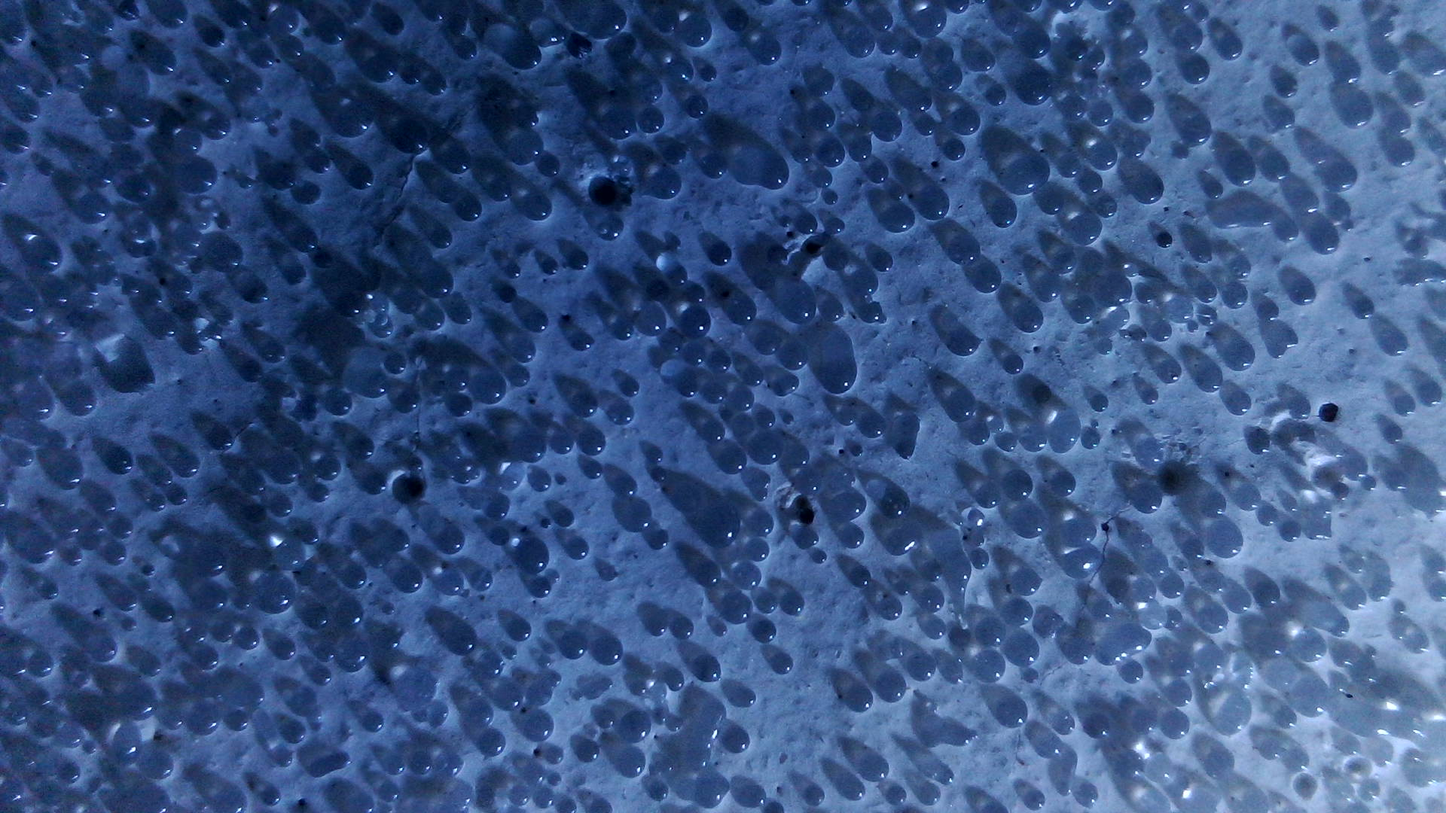GlassBeadSeg: (1206, 686, 1251, 734), (1294, 677, 1329, 716), (209, 237, 244, 272), (260, 581, 295, 614), (521, 709, 555, 742), (444, 624, 478, 657), (335, 104, 369, 137), (397, 121, 431, 154), (336, 638, 370, 670), (515, 542, 549, 574), (122, 687, 156, 719), (187, 702, 221, 734), (402, 670, 436, 702), (473, 373, 508, 404), (391, 472, 426, 503), (603, 109, 638, 140), (749, 430, 784, 461), (706, 511, 741, 542), (914, 187, 949, 218), (1178, 114, 1213, 145), (972, 650, 1007, 681), (1018, 26, 1053, 57), (1010, 301, 1045, 332), (1008, 566, 1043, 597), (183, 162, 218, 193), (588, 6, 623, 37), (64, 383, 98, 414), (21, 389, 55, 420), (272, 539, 306, 570), (355, 365, 389, 396), (50, 457, 84, 488), (20, 531, 54, 562), (647, 168, 681, 199), (634, 304, 668, 335), (615, 497, 649, 528), (507, 131, 541, 162), (266, 452, 300, 483), (1128, 482, 1162, 513), (680, 13, 714, 44), (822, 357, 856, 388), (782, 289, 816, 320), (833, 490, 867, 521), (1063, 514, 1097, 545), (1005, 634, 1039, 665), (1068, 213, 1102, 244), (757, 155, 791, 186), (1131, 170, 1165, 201), (1012, 506, 1046, 537), (845, 266, 879, 297), (994, 694, 1028, 725), (969, 262, 1003, 293), (1223, 340, 1257, 371), (616, 709, 650, 740), (613, 746, 647, 777), (590, 635, 624, 666), (458, 698, 492, 729), (529, 15, 563, 46), (750, 34, 784, 65), (1085, 138, 1119, 169), (1017, 74, 1051, 105), (927, 61, 961, 92), (1115, 27, 1149, 58), (1118, 59, 1152, 90), (842, 28, 876, 59), (1097, 274, 1131, 305), (879, 201, 913, 232), (812, 137, 846, 168), (723, 295, 757, 326), (1160, 292, 1194, 323), (1005, 162, 1039, 193), (1001, 469, 1035, 500), (873, 670, 907, 701), (1158, 709, 1192, 740), (1323, 161, 1357, 192), (1339, 97, 1373, 128), (1224, 155, 1258, 186), (1348, 392, 1382, 423), (948, 105, 982, 136), (1293, 631, 1327, 662), (388, 562, 423, 592), (985, 195, 1020, 225), (77, 191, 111, 221), (194, 544, 228, 574), (420, 267, 454, 297), (512, 432, 546, 462), (679, 305, 713, 335), (883, 522, 917, 552), (1210, 525, 1244, 555), (1195, 602, 1229, 632), (1066, 545, 1100, 575), (721, 594, 755, 624), (913, 5, 947, 35), (870, 111, 904, 141), (946, 326, 980, 356), (942, 389, 976, 419), (1309, 224, 1343, 254), (33, 241, 63, 272), (694, 656, 722, 684), (1034, 731, 1062, 759), (1135, 439, 1163, 467), (880, 488, 908, 516), (1344, 755, 1372, 783), (1206, 749, 1234, 777), (1258, 632, 1286, 660), (1397, 712, 1425, 740), (908, 653, 935, 681), (846, 684, 873, 712), (1005, 599, 1033, 626), (722, 727, 750, 754), (733, 562, 761, 589), (1036, 613, 1064, 640), (1064, 637, 1092, 664), (1072, 781, 1100, 808), (1146, 755, 1174, 782), (974, 482, 1002, 509), (1095, 638, 1122, 666), (1121, 625, 1148, 653), (1199, 645, 1227, 672), (1191, 784, 1218, 812), (861, 755, 888, 782), (1165, 680, 1192, 707), (977, 619, 1004, 646), (1253, 581, 1280, 608), (1128, 95, 1154, 123), (1289, 277, 1315, 305), (809, 103, 835, 131), (809, 70, 835, 97), (1184, 56, 1209, 84), (1336, 59, 1361, 87), (1377, 48, 1402, 76), (1264, 152, 1289, 180), (1387, 108, 1412, 136), (1389, 139, 1414, 167), (640, 106, 665, 134), (526, 192, 551, 220), (669, 61, 694, 89), (174, 452, 200, 478), (9, 295, 35, 321), (92, 635, 118, 661), (57, 722, 83, 748), (204, 114, 230, 140), (126, 177, 152, 203), (15, 98, 41, 124), (179, 230, 205, 256), (128, 102, 154, 128), (446, 149, 472, 175), (372, 58, 398, 84), (1089, 100, 1114, 127), (1421, 51, 1446, 78), (107, 449, 133, 474), (103, 541, 128, 567), (267, 492, 293, 517), (438, 527, 463, 553), (1141, 604, 1166, 630), (148, 753, 174, 778), (116, 736, 141, 762), (317, 454, 342, 480), (420, 307, 445, 333), (177, 130, 202, 156), (7, 128, 32, 154), (273, 9, 298, 35), (349, 165, 374, 191), (153, 51, 178, 77), (88, 162, 113, 188), (516, 44, 541, 70), (69, 38, 95, 63), (29, 652, 54, 677), (202, 586, 227, 611), (328, 390, 353, 415), (91, 91, 116, 116), (61, 69, 86, 94), (321, 19, 346, 44), (751, 620, 777, 644), (768, 652, 794, 676), (839, 525, 865, 549), (748, 511, 774, 535), (744, 538, 770, 562), (742, 785, 768, 809), (696, 784, 722, 808), (480, 732, 506, 756), (507, 618, 533, 642), (485, 496, 511, 520), (439, 572, 465, 596), (573, 393, 599, 417), (395, 389, 421, 413), (701, 418, 727, 442), (730, 387, 756, 411), (424, 701, 450, 725), (342, 565, 368, 589), (338, 604, 364, 628), (877, 597, 902, 621), (795, 471, 820, 495), (916, 783, 941, 807), (669, 617, 694, 641), (497, 687, 522, 711), (527, 680, 552, 704), (565, 537, 590, 561), (469, 567, 494, 591), (610, 403, 635, 427), (581, 431, 606, 455), (447, 394, 472, 418), (512, 337, 537, 361), (755, 331, 780, 355), (477, 654, 502, 678), (304, 605, 329, 629), (918, 589, 944, 612), (937, 658, 963, 681), (561, 635, 587, 658), (782, 346, 808, 369), (780, 591, 805, 614), (722, 449, 747, 472), (439, 752, 464, 775), (1053, 712, 1075, 734), (1248, 431, 1270, 453), (1345, 587, 1367, 609), (968, 423, 990, 445), (996, 429, 1018, 451), (961, 506, 983, 528), (797, 527, 819, 549), (1221, 37, 1242, 60), (1276, 75, 1297, 98), (1298, 43, 1319, 66), (1274, 107, 1295, 130), (1181, 29, 1202, 52), (843, 779, 865, 800), (803, 786, 825, 807), (1121, 662, 1143, 683), (1204, 572, 1226, 593), (1092, 601, 1114, 622), (1259, 739, 1281, 760), (969, 547, 991, 568), (921, 562, 943, 583), (1024, 788, 1046, 809), (1134, 713, 1156, 734), (1132, 531, 1154, 552), (925, 618, 947, 639), (1280, 520, 1302, 541), (1238, 489, 1260, 510), (1291, 397, 1313, 418), (1229, 393, 1251, 414), (1159, 360, 1181, 381), (1196, 281, 1218, 302), (1230, 257, 1252, 278), (1420, 384, 1442, 405), (1409, 237, 1431, 258), (1346, 459, 1368, 480), (1367, 580, 1389, 601), (1053, 474, 1075, 495), (1003, 353, 1025, 374), (1329, 617, 1351, 638), (1274, 708, 1296, 729), (1359, 779, 1381, 800), (1339, 734, 1361, 755), (1072, 301, 1094, 322), (1151, 320, 1173, 341), (1199, 370, 1221, 391), (1278, 221, 1300, 242), (1081, 172, 1103, 193), (1095, 197, 1117, 218), (985, 86, 1007, 107), (915, 115, 937, 136), (1296, 192, 1318, 213), (1084, 47, 1105, 69), (1041, 194, 1063, 215), (860, 302, 882, 323), (710, 245, 732, 266), (1382, 423, 1404, 444), (1384, 334, 1406, 355), (1333, 646, 1355, 667), (1088, 716, 1110, 737), (1133, 579, 1155, 600), (1171, 654, 1193, 675), (1372, 743, 1394, 764), (1121, 756, 1143, 777), (1204, 495, 1226, 516), (861, 414, 883, 435), (835, 405, 857, 426), (668, 265, 690, 286), (810, 166, 832, 187), (879, 34, 901, 55), (871, 10, 893, 31), (911, 92, 933, 113), (853, 89, 875, 110), (1055, 427, 1077, 448), (676, 377, 698, 398), (705, 381, 727, 402), (743, 364, 765, 385), (683, 346, 705, 367), (572, 331, 594, 352), (613, 319, 635, 340), (433, 227, 455, 248), (460, 200, 482, 221), (490, 181, 512, 202), (827, 248, 849, 269), (309, 153, 331, 174), (275, 168, 297, 189), (165, 7, 187, 28), (33, 78, 55, 99), (340, 295, 362, 316), (706, 157, 727, 179), (653, 45, 675, 66), (728, 11, 750, 32), (699, 566, 721, 587), (8, 72, 30, 93), (4, 25, 26, 46), (230, 8, 252, 29), (1272, 667, 1294, 688), (886, 786, 907, 807), (850, 565, 871, 586), (756, 592, 777, 613), (1258, 504, 1279, 525), (1395, 394, 1416, 415), (1226, 286, 1247, 307), (1387, 468, 1408, 489), (1026, 428, 1047, 449), (1229, 589, 1250, 610), (1162, 577, 1183, 598), (1147, 554, 1168, 575), (1295, 773, 1316, 794), (1288, 749, 1309, 770), (1259, 300, 1280, 321), (1402, 85, 1423, 106), (1059, 156, 1080, 177), (944, 140, 965, 161), (868, 162, 889, 183), (1193, 242, 1214, 263), (1374, 18, 1395, 39), (1065, 40, 1086, 61), (1063, 98, 1084, 119), (1124, 137, 1145, 158), (1038, 279, 1059, 300), (1055, 252, 1076, 273), (822, 301, 843, 322), (1354, 297, 1375, 318), (872, 251, 893, 272), (1354, 660, 1375, 681), (1184, 538, 1205, 559), (1409, 631, 1430, 652), (1161, 608, 1182, 629), (796, 213, 817, 234), (850, 140, 871, 161), (665, 144, 686, 165), (902, 39, 923, 60), (974, 50, 995, 71), (687, 96, 708, 117), (710, 352, 731, 373), (661, 333, 682, 354), (539, 156, 560, 177), (641, 82, 662, 103), (297, 231, 318, 252), (253, 48, 274, 69), (206, 28, 227, 49), (283, 40, 304, 61), (426, 74, 447, 95), (656, 13, 677, 34), (790, 447, 810, 467), (780, 373, 799, 393), (532, 579, 551, 599), (532, 473, 551, 492), (169, 487, 188, 506), (665, 671, 683, 690), (649, 782, 667, 801), (545, 747, 563, 766), (650, 530, 668, 549), (581, 743, 599, 762), (536, 789, 554, 808), (512, 786, 530, 805), (455, 786, 473, 805), (413, 755, 431, 774), (366, 713, 384, 732), (596, 709, 614, 728), (622, 379, 640, 398), (584, 460, 602, 479), (620, 477, 638, 496), (503, 470, 521, 489), (555, 434, 573, 453), (490, 527, 508, 546), (511, 367, 529, 386), (454, 306, 472, 325), (541, 258, 559, 277), (573, 252, 591, 271), (685, 285, 703, 304), (650, 281, 668, 300), (755, 270, 773, 289), (769, 245, 787, 264), (393, 532, 411, 551), (288, 724, 306, 743), (230, 712, 248, 731), (164, 710, 182, 729), (144, 657, 162, 676), (157, 603, 175, 622), (216, 622, 234, 641), (234, 592, 252, 611), (201, 650, 219, 669), (275, 748, 293, 767), (61, 764, 79, 783), (71, 667, 89, 686), (187, 625, 205, 644), (277, 639, 295, 658), (65, 546, 83, 565), (148, 494, 166, 513), (154, 469, 172, 488), (116, 519, 134, 538), (100, 495, 118, 514), (62, 518, 80, 537), (88, 520, 106, 539), (381, 631, 399, 650), (312, 485, 330, 504), (301, 526, 319, 545), (357, 439, 375, 458), (369, 476, 387, 495), (9, 706, 27, 725), (9, 661, 27, 680), (33, 690, 51, 709), (173, 279, 191, 298), (49, 321, 67, 340), (186, 337, 204, 356), (244, 362, 262, 381), (389, 355, 407, 374), (376, 319, 394, 338), (460, 41, 478, 60), (214, 68, 232, 87), (603, 221, 621, 240), (405, 66, 423, 85), (387, 16, 405, 35), (97, 15, 115, 34), (121, 2, 139, 21), (317, 643, 335, 662), (458, 459, 476, 478), (737, 689, 755, 707), (557, 510, 575, 528), (648, 617, 666, 635), (690, 753, 708, 771), (387, 757, 405, 775), (382, 784, 400, 802), (529, 315, 547, 333), (263, 786, 281, 804), (241, 631, 259, 649), (313, 667, 331, 685), (120, 593, 138, 611), (216, 432, 234, 450), (248, 686, 266, 704), (252, 286, 270, 304), (269, 344, 287, 362), (450, 372, 468, 390), (244, 75, 262, 93), (427, 4, 445, 22), (248, 476, 266, 494), (1113, 309, 1131, 326), (1192, 6, 1210, 23), (1091, 395, 1108, 412), (1141, 387, 1158, 404), (1082, 432, 1099, 449), (1096, 338, 1113, 355), (1137, 286, 1154, 303), (1123, 259, 1140, 276), (1156, 232, 1173, 249), (1206, 182, 1223, 199), (757, 410, 774, 427), (1323, 14, 1340, 31), (1200, 308, 1217, 325), (1284, 497, 1297, 513), (1335, 483, 1348, 498), (1363, 477, 1376, 492), (1351, 558, 1364, 573), (1271, 344, 1284, 359), (1285, 332, 1298, 347), (897, 582, 910, 595), (852, 445, 865, 458), (755, 489, 768, 502), (825, 191, 838, 204), (1394, 602, 1407, 615), (1365, 645, 1378, 658), (548, 772, 561, 785), (668, 717, 681, 730), (538, 655, 551, 668), (505, 646, 518, 659), (893, 645, 906, 658), (546, 569, 559, 582), (85, 742, 98, 755), (383, 603, 396, 616), (311, 710, 324, 723), (165, 324, 178, 337), (87, 285, 100, 298), (525, 114, 538, 127), (81, 300, 94, 313), (241, 176, 254, 189), (813, 551, 826, 563), (1025, 669, 1038, 681), (652, 468, 665, 480), (779, 215, 792, 227), (703, 68, 716, 80), (958, 733, 971, 745), (941, 771, 953, 784), (531, 772, 544, 784), (601, 678, 614, 690), (655, 712, 668, 724), (634, 683, 647, 695), (549, 672, 561, 685), (650, 450, 663, 462), (509, 266, 522, 278), (832, 221, 845, 233), (411, 460, 424, 472), (143, 563, 155, 576), (123, 618, 136, 630), (139, 581, 151, 594), (47, 584, 59, 597), (151, 293, 164, 305), (798, 150, 810, 163), (892, 188, 905, 200), (198, 217, 211, 229), (129, 282, 142, 294), (337, 754, 350, 766), (715, 623, 727, 635), (21, 452, 33, 464), (58, 294, 70, 306), (220, 217, 232, 229), (1177, 561, 1187, 571), (1061, 785, 1071, 795)
